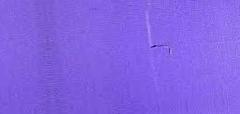snag: (148, 38, 176, 57)
